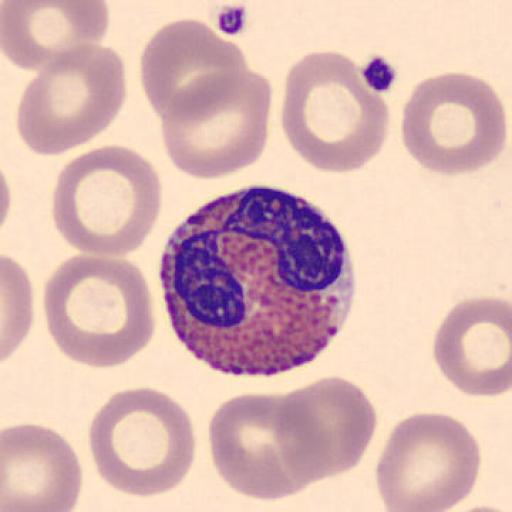RBC: (207, 389, 335, 502), (280, 49, 391, 177), (42, 252, 156, 371), (158, 66, 273, 180), (15, 42, 129, 157), (50, 143, 163, 258), (87, 385, 196, 499), (139, 16, 248, 122), (400, 70, 506, 177), (274, 374, 378, 482), (375, 410, 483, 512), (432, 296, 512, 398), (1, 0, 110, 73), (1, 423, 84, 512), (2, 254, 34, 364), (0, 154, 11, 253), (0, 159, 13, 236), (434, 502, 512, 512)
WBC: (160, 183, 356, 378)
